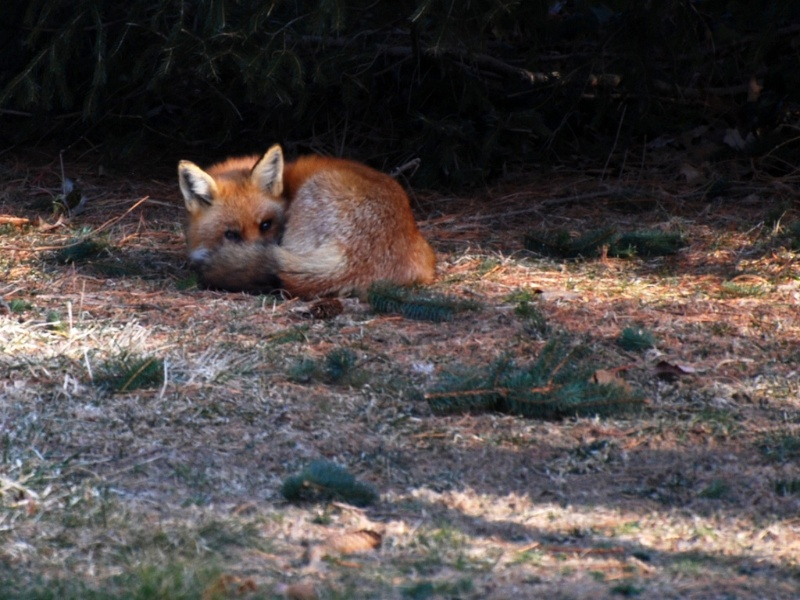fox: (169, 143, 439, 313)
